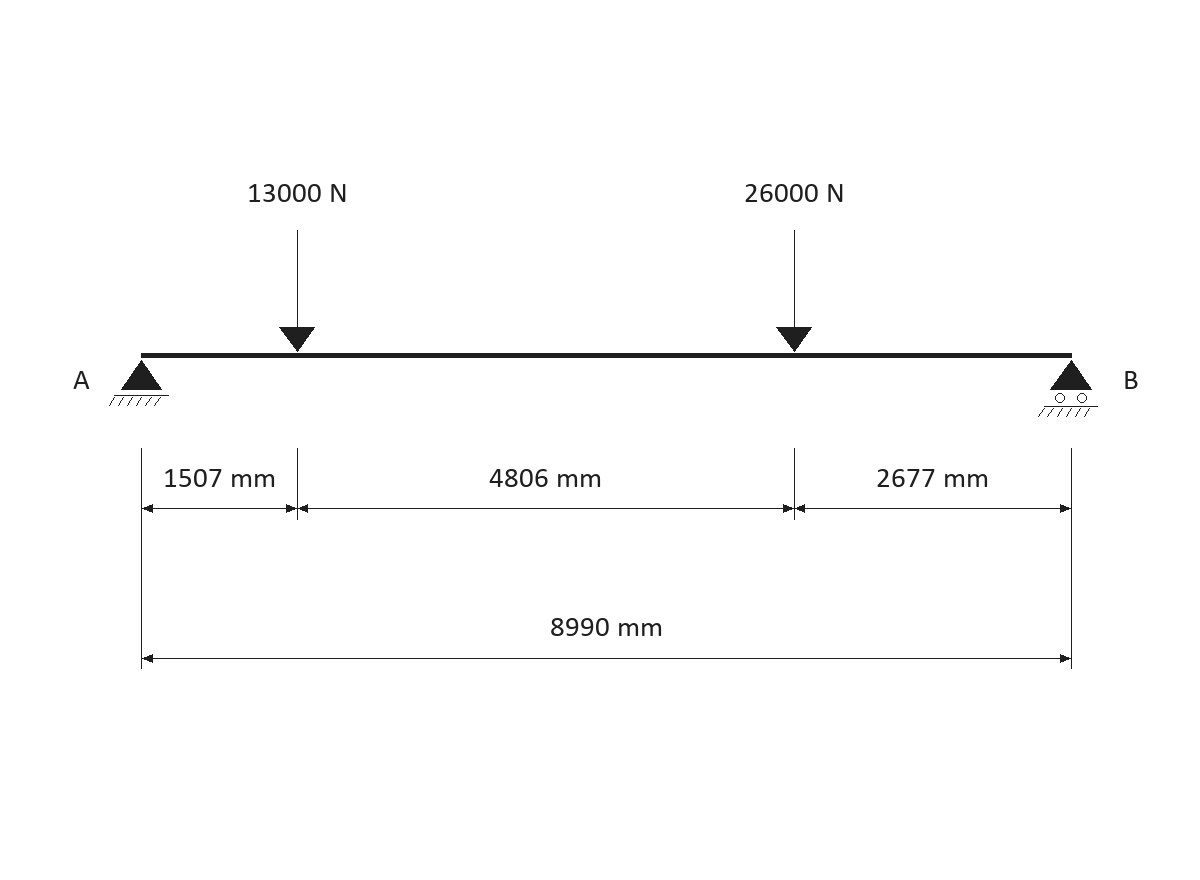pin_support: (109, 360, 169, 406)
point_load: (279, 230, 315, 352), (776, 230, 812, 352)
roller_support: (1038, 360, 1098, 417)
